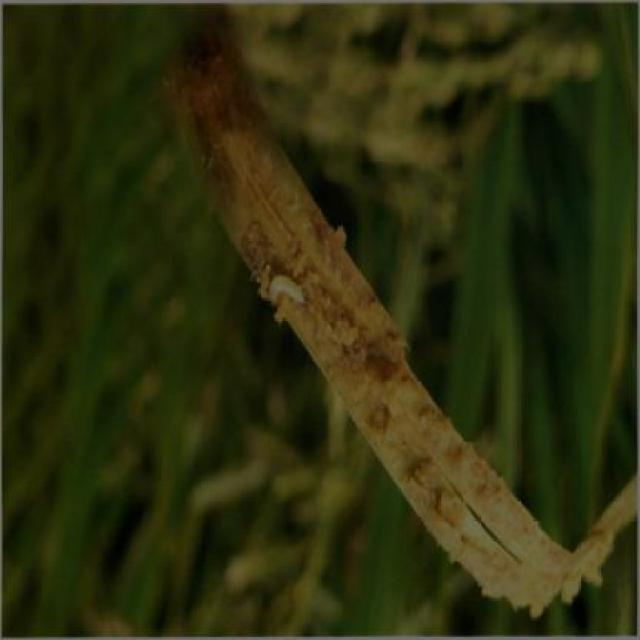whorl-maggot: (263, 268, 308, 326)
